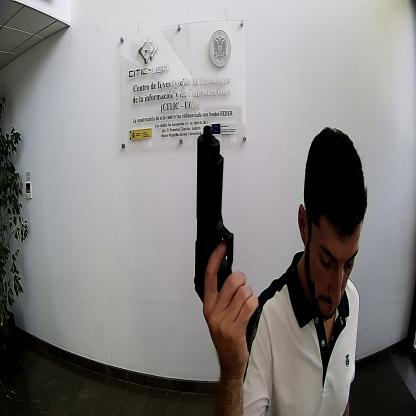pistol: (192, 124, 260, 352)
